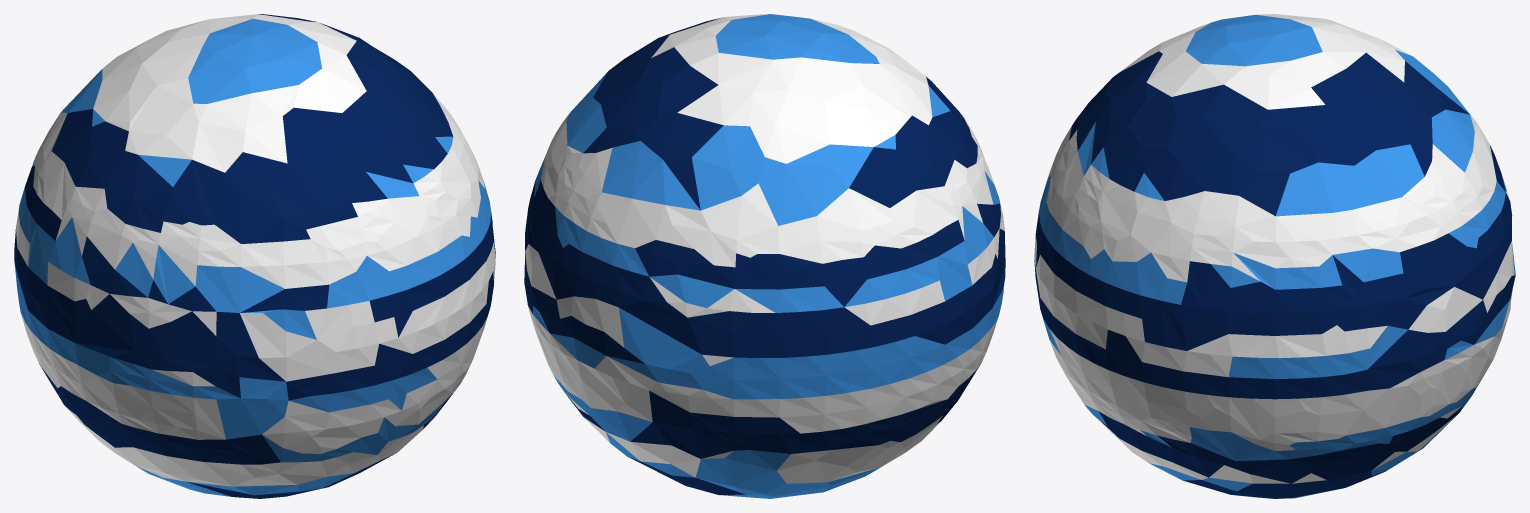
File: planetEducation.obj
3 views of the same model, side by side, from view 1: azimuth 30°, elevation 25°; view 2: azimuth 150°, elevation 25°; view 3: azimuth 270°, elevation 25° (orthographic).
Visible parts, largest first — view 1: planetEducation; view 2: planetEducation; view 3: planetEducation.
Boxes of the visible parts, x1,y1,x2,y2 form: planetEducation: [14, 14, 495, 498]; planetEducation: [524, 14, 1005, 498]; planetEducation: [1034, 14, 1515, 498].
Size of the model in its own units: 317 by 321 by 317.
